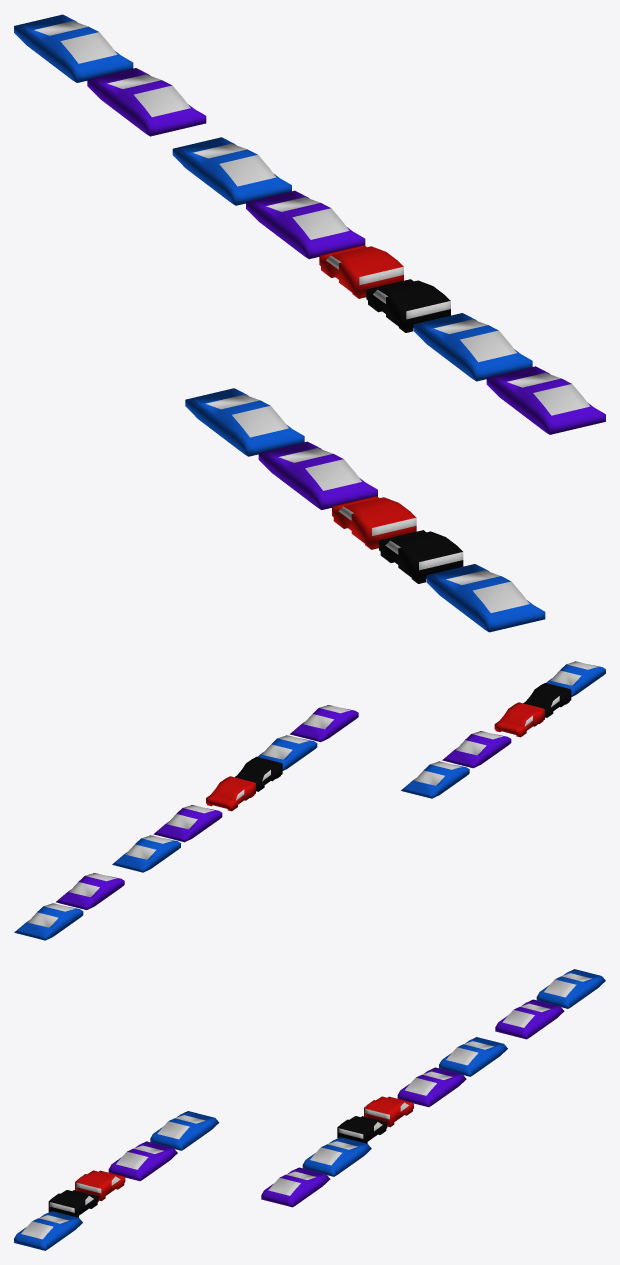
The model's file is carAI2.obj.
3 renders of one model, top to bottom at view 1: azimuth 30°, elevation 25°; view 2: azimuth 150°, elevation 25°; view 3: azimuth 330°, elevation 25°, orthographic. The views are drawn at different scales.
Parts seen in each view (by area): view 1: Cube.183_Cube.193, Cube.188_Cube.198, Cube.190_Cube.200, Cube.189_Cube.199, Cube.187_Cube.197, Cube.194_Cube.204, Cube.186_Cube.196, Cube.191_Cube.201, Cube.195_Cube.205, Cube.185_Cube.195, Cube.193_Cube.203, Cube.184_Cube.194 (+1 smaller); view 2: Cube.194_Cube.204, Cube.186_Cube.196, Cube.189_Cube.199, Cube.195_Cube.205, Cube.187_Cube.197, Cube.188_Cube.198, Cube.190_Cube.200, Cube.191_Cube.201, Cube.183_Cube.193, Cube.184_Cube.194, Cube.192_Cube.202, Cube.185_Cube.195 (+1 smaller); view 3: Cube.188_Cube.198, Cube.190_Cube.200, Cube.183_Cube.193, Cube.194_Cube.204, Cube.186_Cube.196, Cube.187_Cube.197, Cube.195_Cube.205, Cube.189_Cube.199, Cube.191_Cube.201, Cube.184_Cube.194, Cube.192_Cube.202, Cube.185_Cube.195 (+1 smaller).
Part boxes in pixels (x1=…): Cube.183_Cube.193: x1=426, y1=564, x2=545, y2=632; Cube.188_Cube.198: x1=87, y1=68, x2=206, y2=136; Cube.190_Cube.200: x1=486, y1=366, x2=605, y2=434; Cube.189_Cube.199: x1=14, y1=14, x2=133, y2=82; Cube.187_Cube.197: x1=185, y1=388, x2=304, y2=456; Cube.194_Cube.204: x1=246, y1=190, x2=365, y2=259; Cube.186_Cube.196: x1=258, y1=441, x2=377, y2=509; Cube.191_Cube.201: x1=413, y1=313, x2=532, y2=381; Cube.195_Cube.205: x1=172, y1=137, x2=291, y2=205; Cube.185_Cube.195: x1=379, y1=530, x2=463, y2=583; Cube.193_Cube.203: x1=366, y1=279, x2=450, y2=332; Cube.184_Cube.194: x1=332, y1=496, x2=416, y2=549; Cube.194_Cube.204: x1=153, y1=805, x2=222, y2=842; Cube.186_Cube.196: x1=442, y1=731, x2=511, y2=768; Cube.189_Cube.199: x1=14, y1=903, x2=83, y2=940; Cube.195_Cube.205: x1=112, y1=835, x2=180, y2=872; Cube.187_Cube.197: x1=401, y1=761, x2=469, y2=798; Cube.188_Cube.198: x1=56, y1=873, x2=124, y2=909; Cube.190_Cube.200: x1=290, y1=705, x2=358, y2=742; Cube.191_Cube.201: x1=257, y1=735, x2=317, y2=770; Cube.183_Cube.193: x1=546, y1=661, x2=605, y2=696; Cube.184_Cube.194: x1=494, y1=702, x2=544, y2=737; Cube.192_Cube.202: x1=206, y1=776, x2=255, y2=811; Cube.185_Cube.195: x1=523, y1=683, x2=571, y2=717; Cube.188_Cube.198: x1=495, y1=999, x2=564, y2=1039; Cube.190_Cube.200: x1=261, y1=1167, x2=330, y2=1207; Cube.183_Cube.193: x1=14, y1=1211, x2=82, y2=1250; Cube.194_Cube.204: x1=397, y1=1067, x2=466, y2=1107; Cube.186_Cube.196: x1=108, y1=1141, x2=177, y2=1180; Cube.187_Cube.197: x1=150, y1=1111, x2=219, y2=1150; Cube.195_Cube.205: x1=439, y1=1037, x2=507, y2=1076; Cube.189_Cube.199: x1=536, y1=969, x2=605, y2=1008; Cube.191_Cube.201: x1=302, y1=1137, x2=371, y2=1176; Cube.184_Cube.194: x1=75, y1=1170, x2=125, y2=1201; Cube.192_Cube.202: x1=364, y1=1096, x2=413, y2=1127; Cube.185_Cube.195: x1=48, y1=1190, x2=98, y2=1217.
Size of the model in its own units: 219 by 15.93 by 871.
